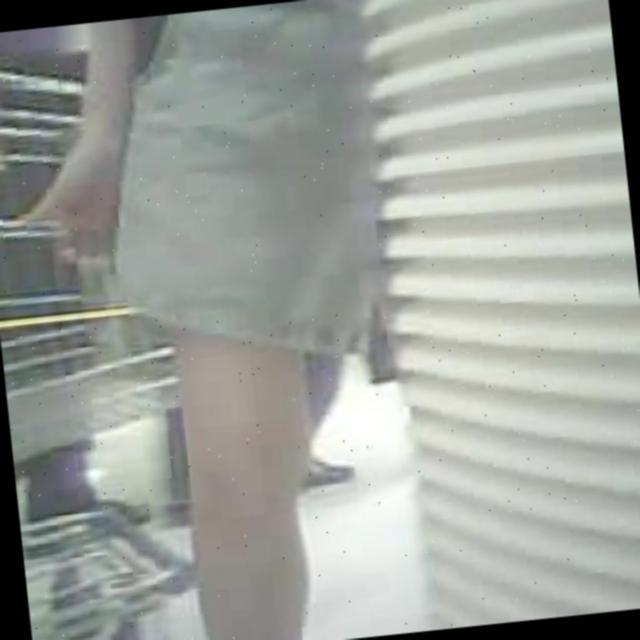person: (1, 0, 439, 640)
